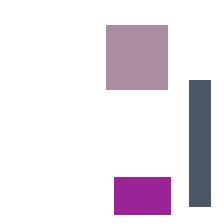rectangle: (106, 25, 167, 89), (189, 80, 210, 206), (114, 177, 170, 214)
